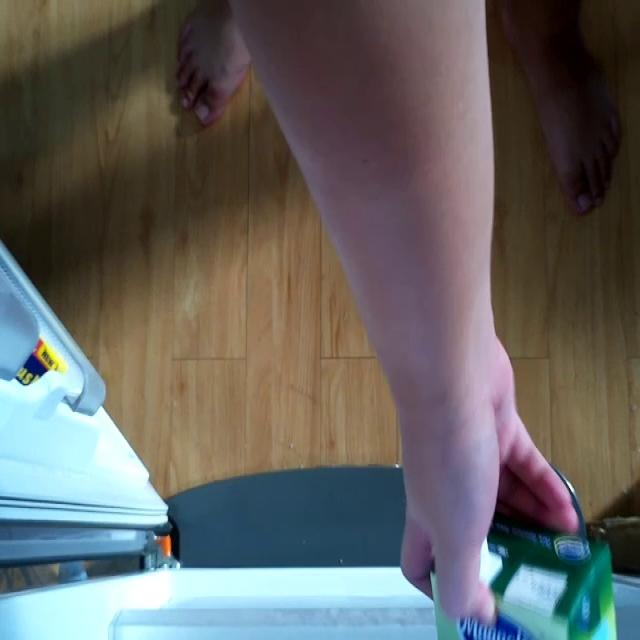milk: (421, 522, 636, 638)
